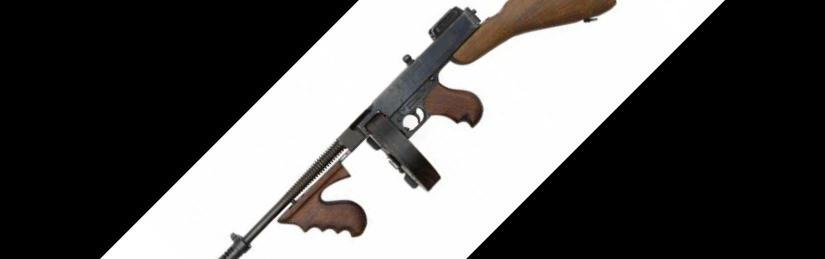larga: (218, 0, 616, 259)
